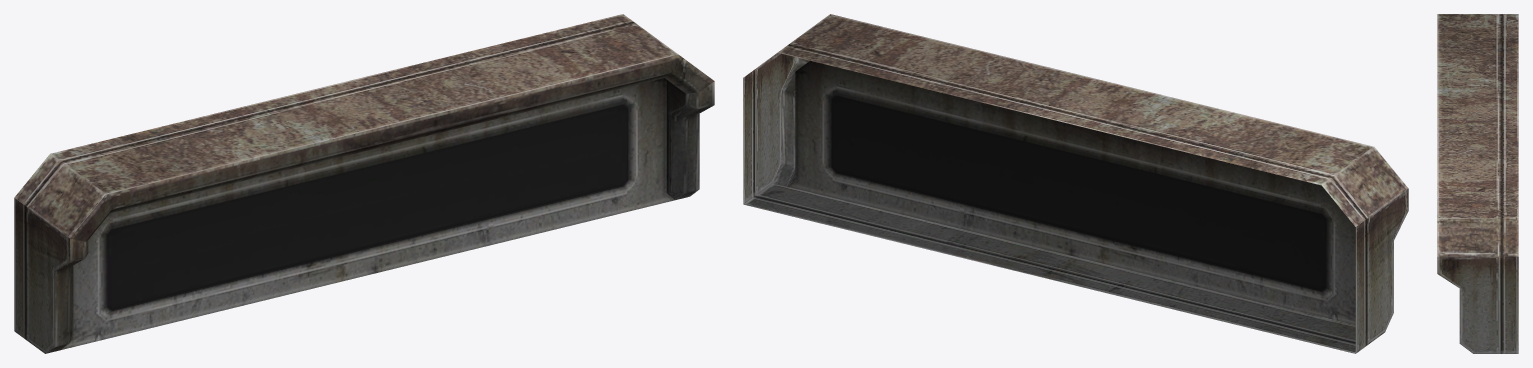
The model's file is led_display_small.dae.
The picture shows the model from 3 angles, left to right: view 1: azimuth 30°, elevation 25°; view 2: azimuth 150°, elevation 25°; view 3: azimuth 270°, elevation 25°; orthographic projection. The views are drawn at different scales.
Parts seen in each view (by area): view 1: led_display; view 2: led_display; view 3: led_display.
Boxes of the visible parts, box(x1,y1,x2,y2) form: led_display: box(14, 14, 714, 353); led_display: box(743, 14, 1408, 353); led_display: box(1437, 14, 1518, 353).
Size of the model in its own units: 1.12 by 0.2812 by 0.1684.
